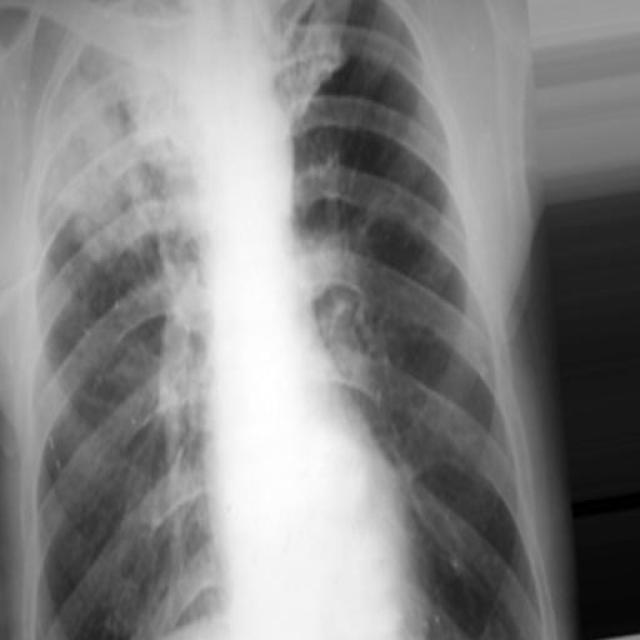tuberculosis: (5, 0, 578, 640)
